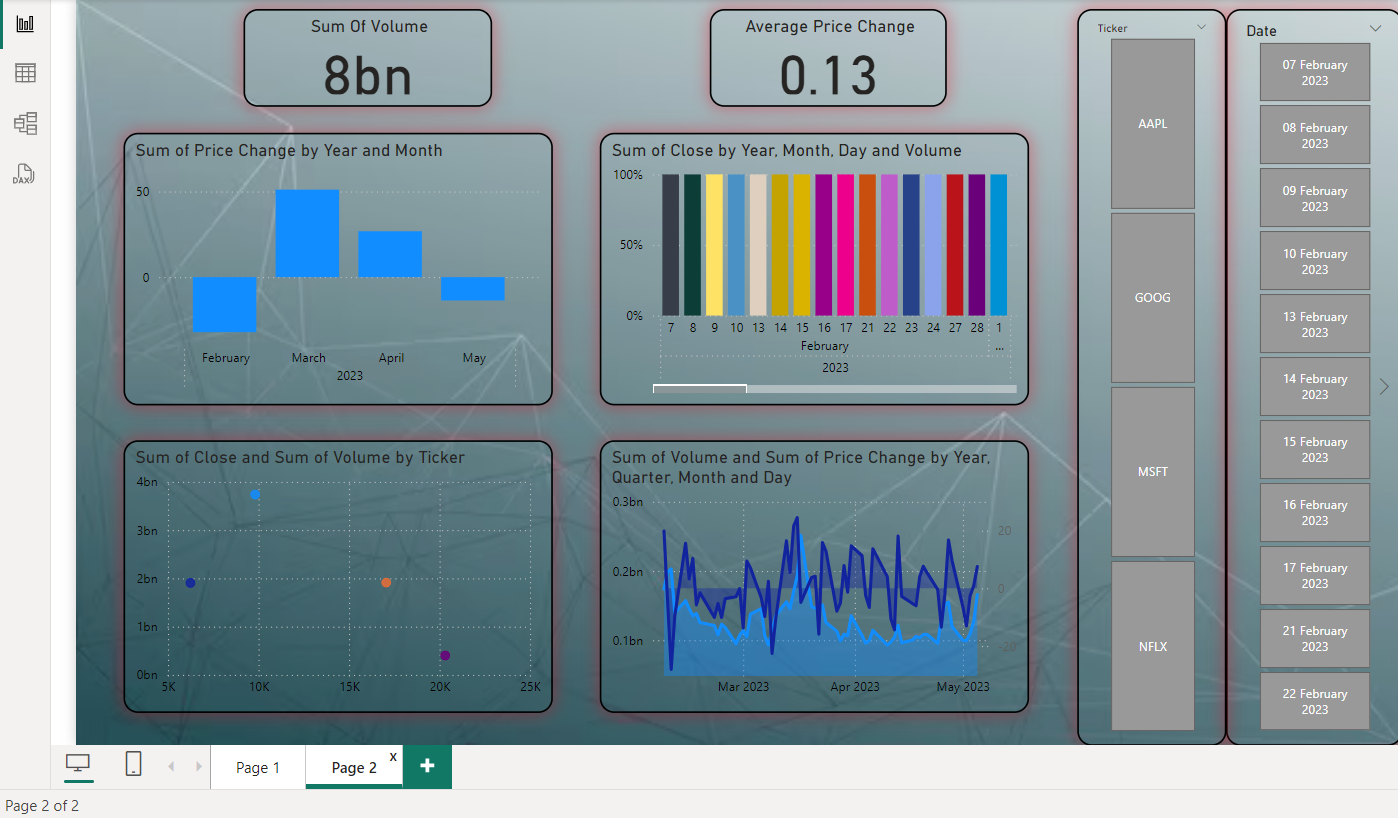

The page's visual inventory and layout, read from the dashboard file:
{"tool":"powerbi","page":{"name":"Page 2","canvas":[1280,720],"ordinal":1},"visuals":[{"type":"columnChart","fields":{"Y":["Sum(stocks.Price Change)"],"Category":["stocks.Date.Variation.Date Hierarchy.Year","stocks.Date.Variation.Date Hierarchy.Month"]},"box":[45.3,129,414.4,263.5],"z":0},{"type":"areaChart","fields":{"Y":["Sum(stocks.Volume)"],"Category":["stocks.Date.Variation.Date Hierarchy.Year","stocks.Date.Variation.Date Hierarchy.Quarter","stocks.Date.Variation.Date Hierarchy.Month","stocks.Date.Variation.Date Hierarchy.Day"],"Y2":["Sum(stocks.Price Change)"]},"box":[505,425.4,414.4,263.5],"z":1000},{"type":"hundredPercentStackedColumnChart","fields":{"Y":["Sum(stocks.Close)"],"Category":["stocks.Date.Variation.Date Hierarchy.Year","stocks.Date.Variation.Date Hierarchy.Month","stocks.Date.Variation.Date Hierarchy.Day"],"Series":["stocks.Volume"]},"box":[505,129,414.4,263.5],"z":2000},{"type":"scatterChart","fields":{"X":["Sum(stocks.Close)"],"Y":["Sum(stocks.Volume)"],"Series":["stocks.Ticker"]},"box":[45.3,425.4,414.4,263.5],"z":3000},{"type":"slicer","fields":{"Values":["stocks.Date"]},"box":[1110.1,9.6,170.2,710.8],"z":4000},{"type":"slicer","fields":{"Values":["stocks.Ticker"]},"box":[966,9.6,144.1,710.8],"z":5000},{"type":"card","title":"Sum Of Volume","fields":{"Values":["Sum(stocks.Volume)"]},"box":[161.9,9.6,240.1,94.7],"z":5001},{"type":"card","title":"Average Price Change","fields":{"Values":["Avg(stocks.Price Change)"]},"box":[612,9.6,229.2,94.7],"z":5002}]}

Visuals, with their boxes in screenshot pixels (x1, y1, x2, y2):
columnChart - Sum(stocks.Price Change) x stocks.Date.Variation.Date Hierarchy.Year: (x1=116, y1=127, x2=547, y2=400)
areaChart - Sum(stocks.Volume) x stocks.Date.Variation.Date Hierarchy.Year: (x1=594, y1=435, x2=1024, y2=708)
hundredPercentStackedColumnChart - Sum(stocks.Close) x stocks.Date.Variation.Date Hierarchy.Year: (x1=594, y1=127, x2=1024, y2=400)
scatterChart - Sum(stocks.Close) x Sum(stocks.Volume): (x1=116, y1=435, x2=547, y2=708)
slicer - stocks.Date: (x1=1222, y1=3, x2=1397, y2=741)
slicer - stocks.Ticker: (x1=1073, y1=3, x2=1222, y2=741)
"Sum Of Volume" card: (x1=237, y1=3, x2=487, y2=101)
"Average Price Change" card: (x1=705, y1=3, x2=943, y2=101)
